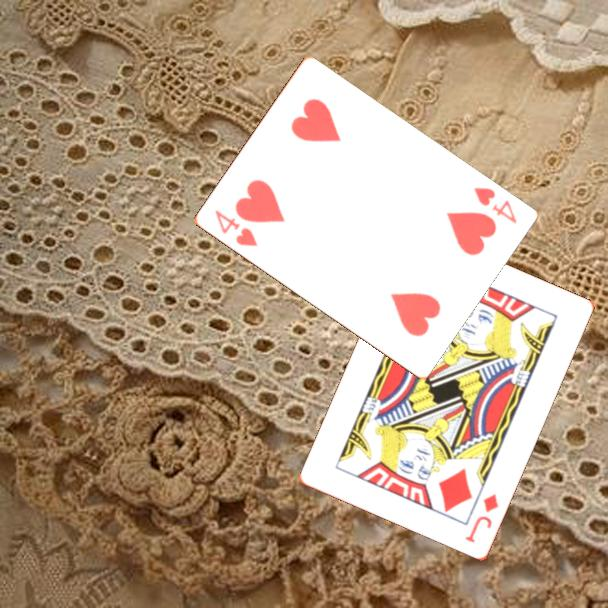d11: (462, 490, 502, 546)
h04: (210, 206, 260, 249), (470, 184, 520, 227)
